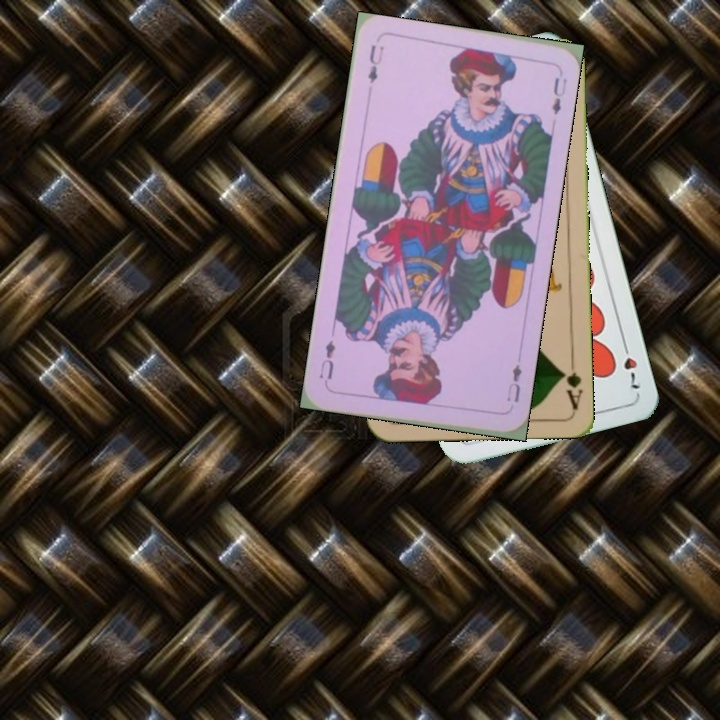EU: (363, 41, 386, 86), (503, 360, 524, 405)
GA: (557, 352, 585, 411)
H7: (618, 336, 643, 392)
